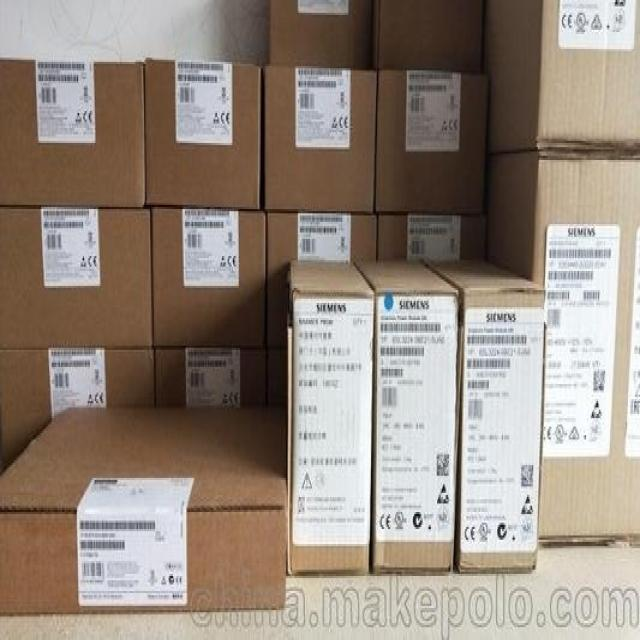Carton: (263, 0, 639, 574), (0, 405, 286, 617), (0, 58, 259, 207), (0, 207, 262, 350), (360, 260, 459, 574), (289, 256, 373, 570)
